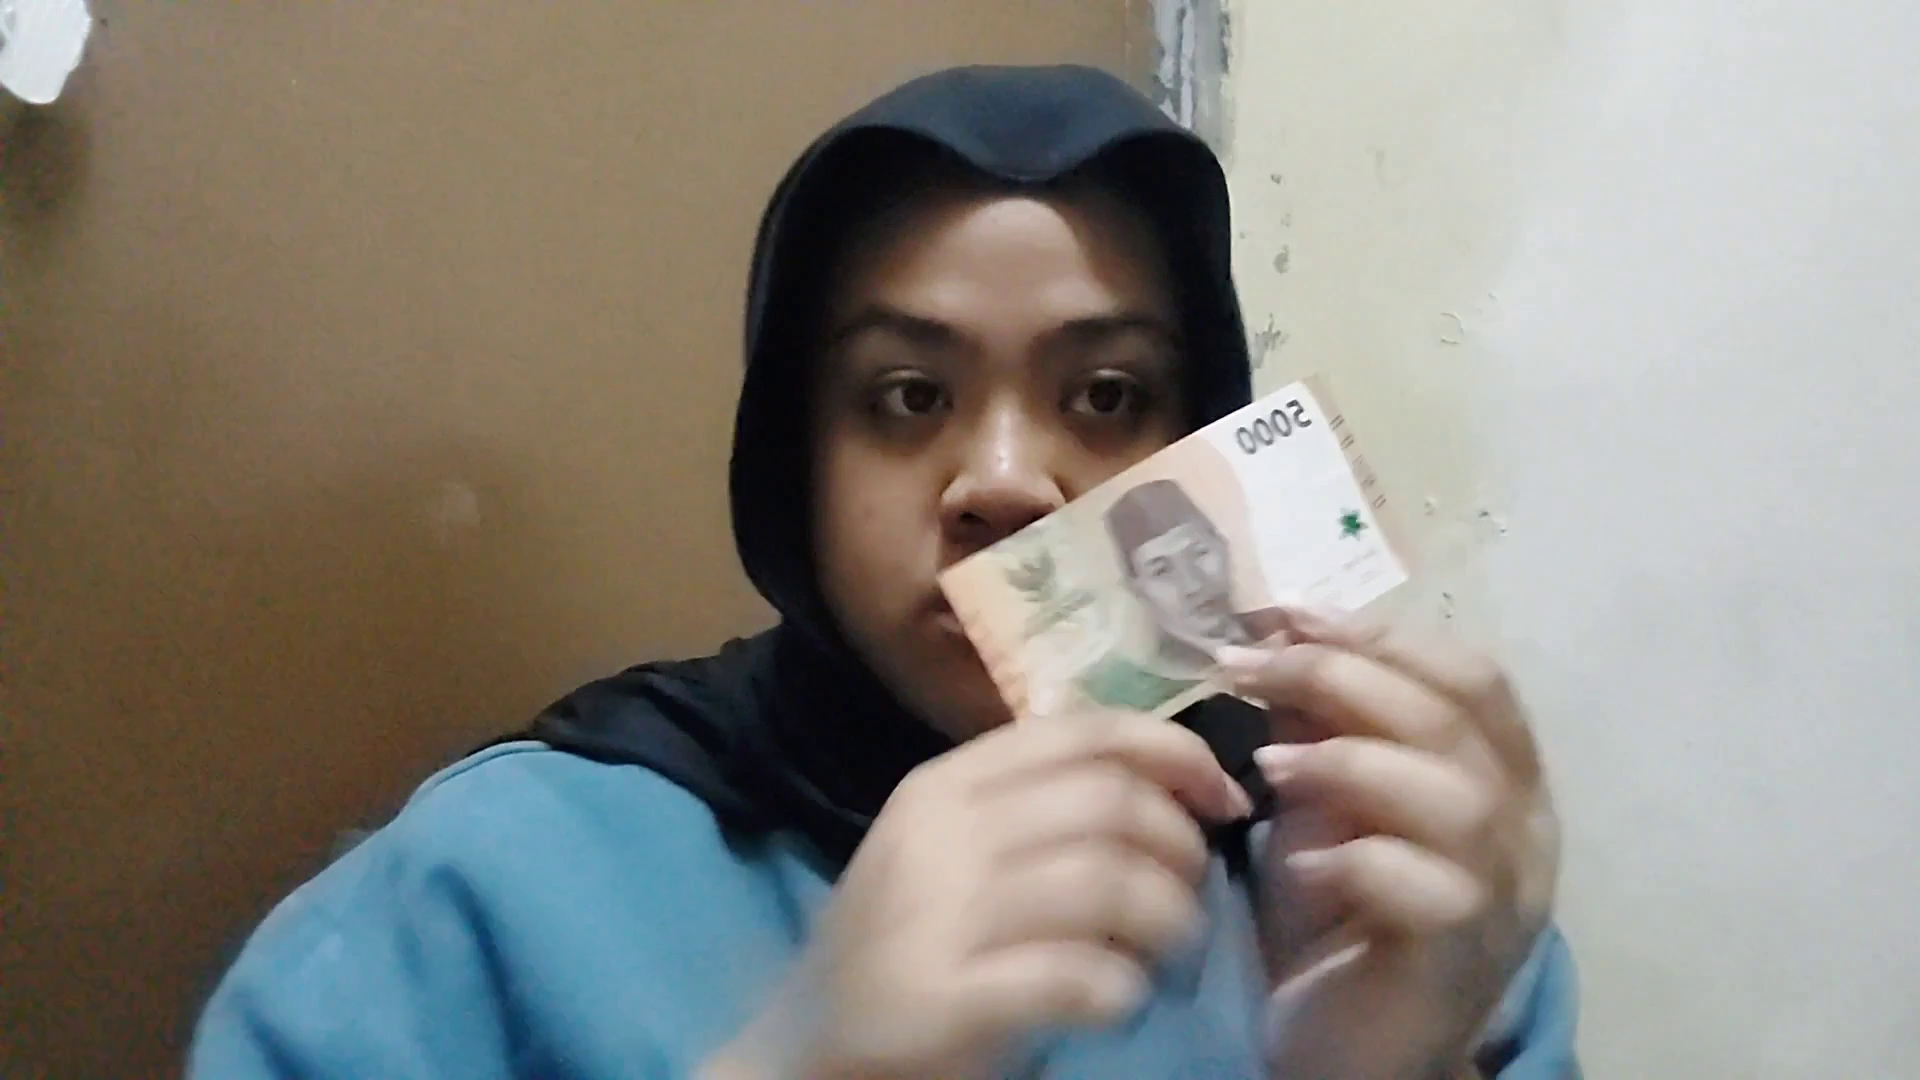5k: (934, 578, 1369, 807)
